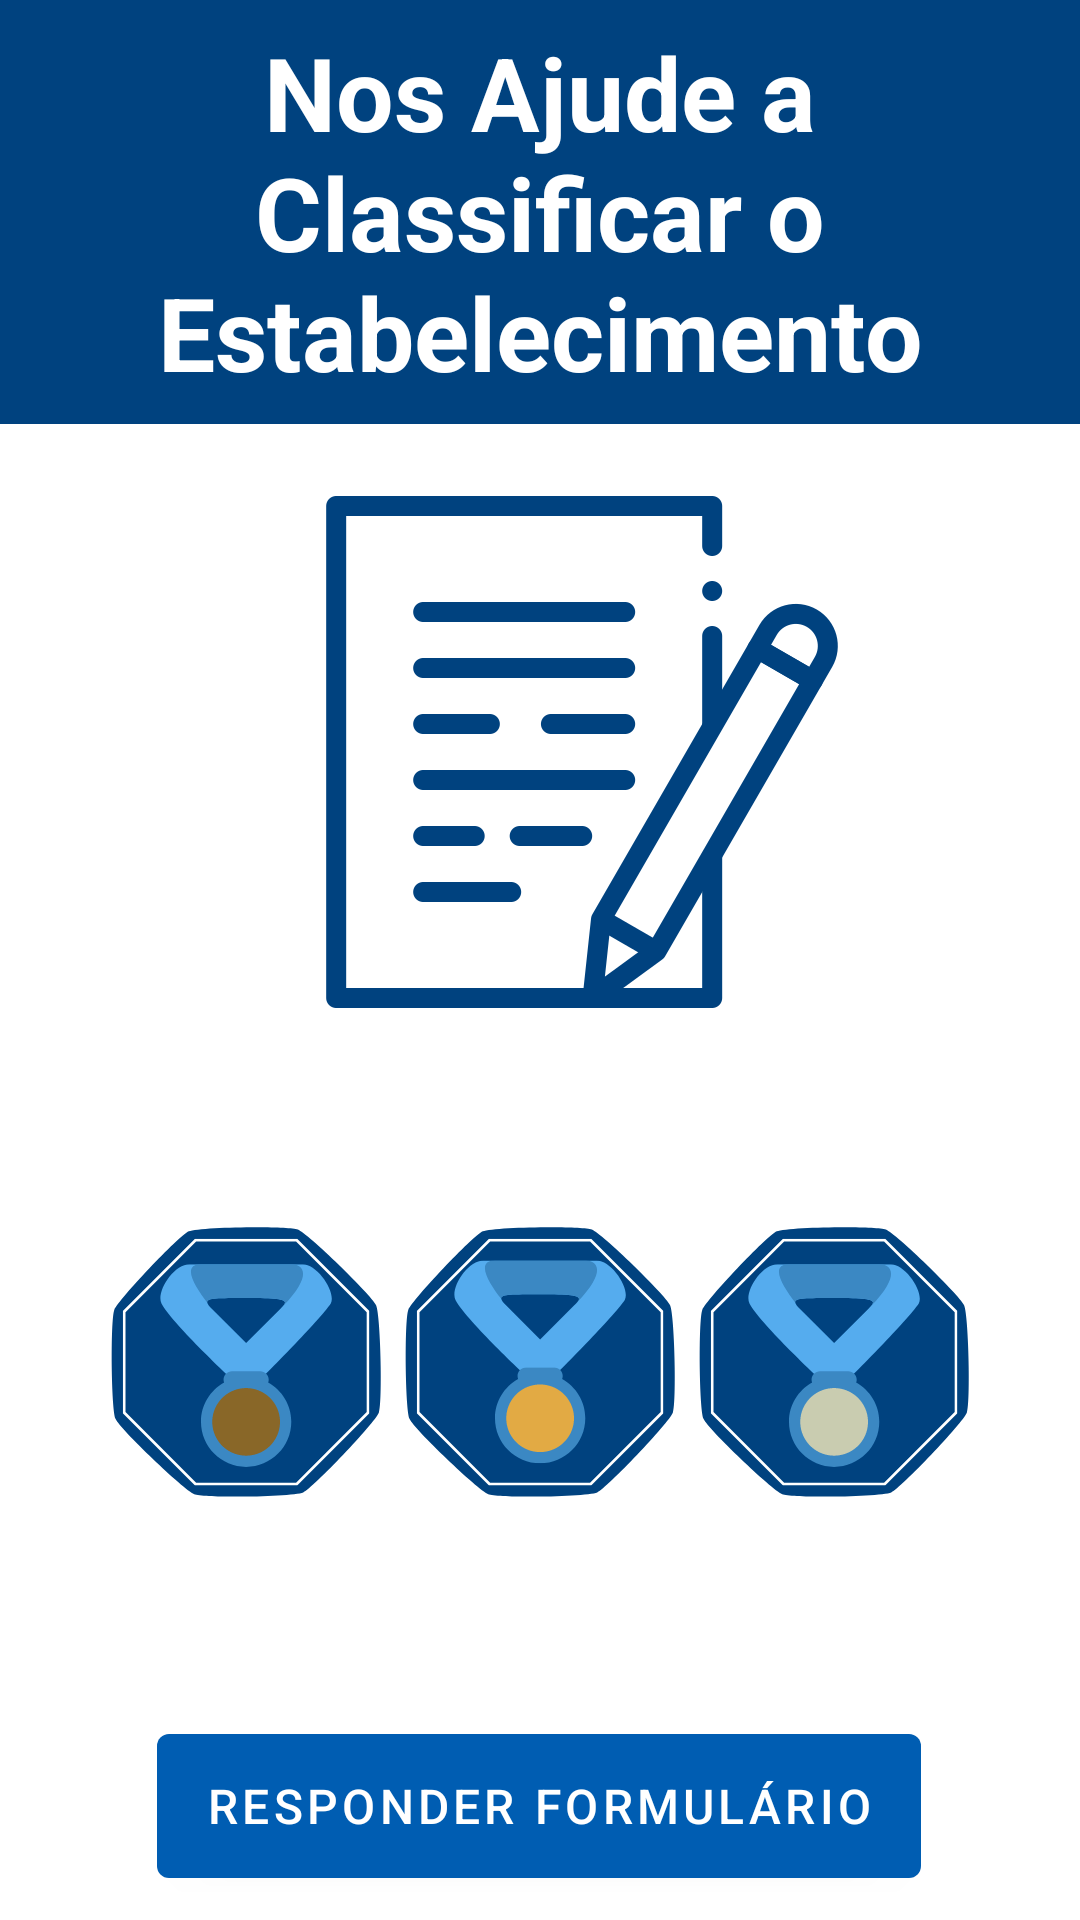

Icon bounding boxes for this 1080*1920 phone screenshot, format (x1, y1, x2, y2):
selobronze: (111, 1227, 381, 1497)
seloouro: (405, 1227, 675, 1497)
seloprata: (699, 1227, 969, 1497)
